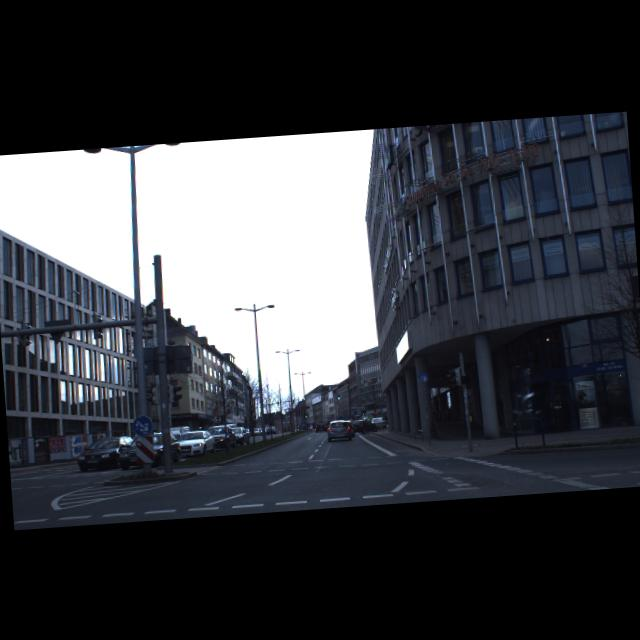mandatory: (132, 413, 152, 436)
